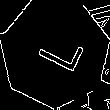L_NW: (26, 27, 84, 77)
